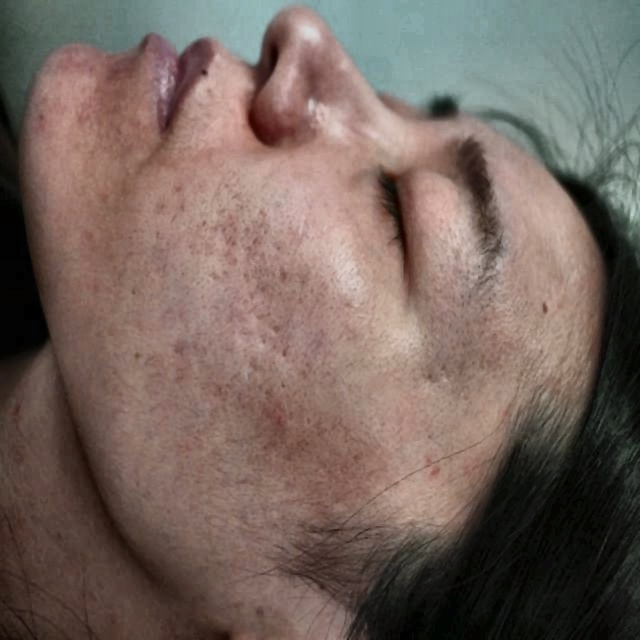comedone: (21, 97, 51, 151)
